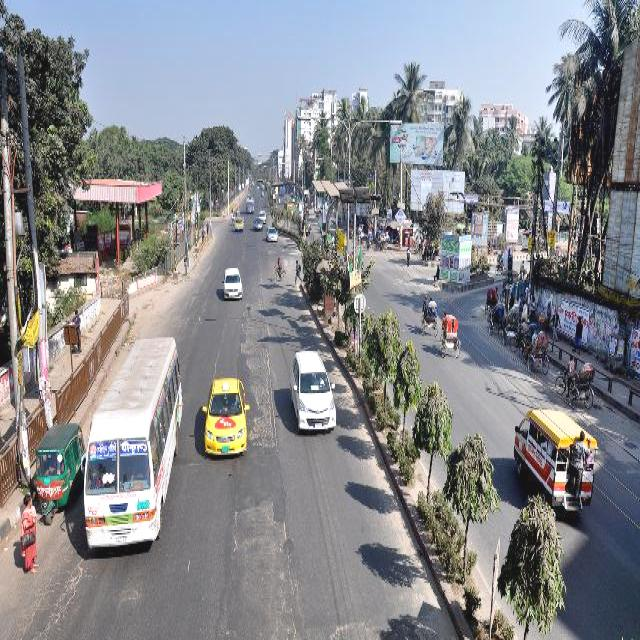white: (292, 351, 337, 430), (223, 265, 244, 298)
